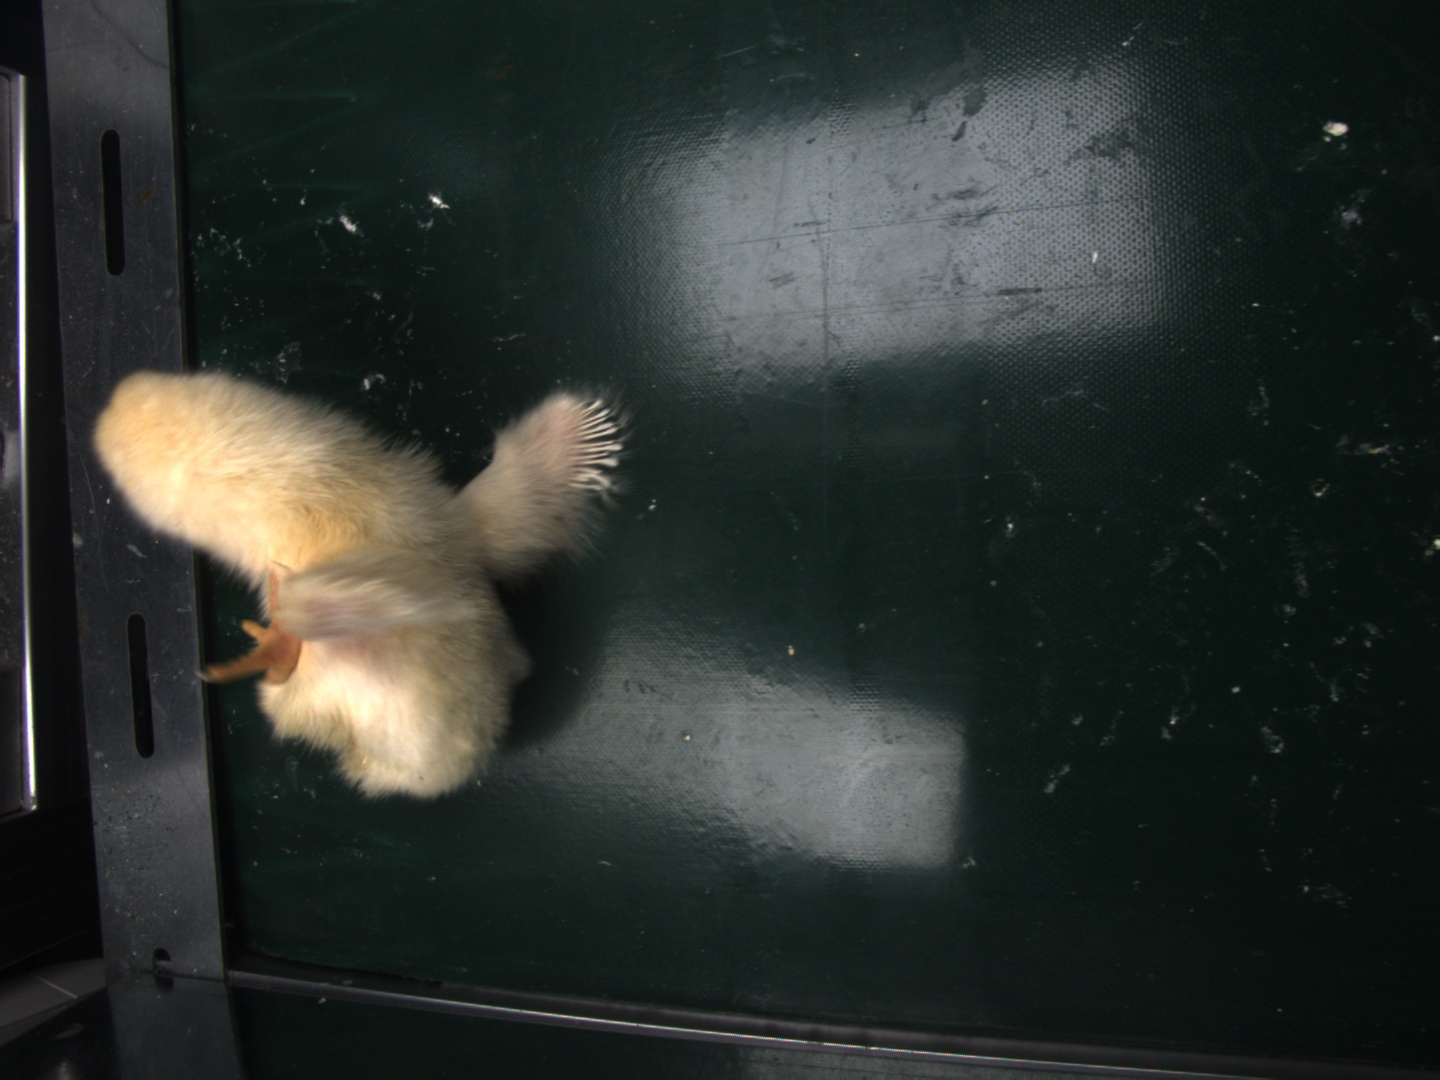male: (571, 393, 627, 488)
